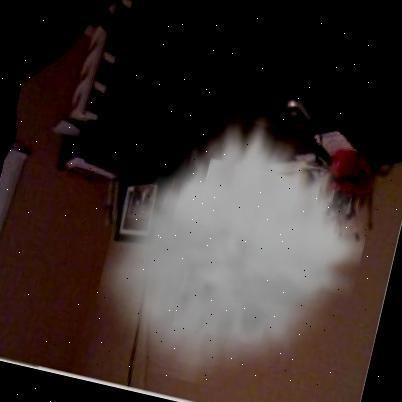smoke: (95, 97, 396, 392)
